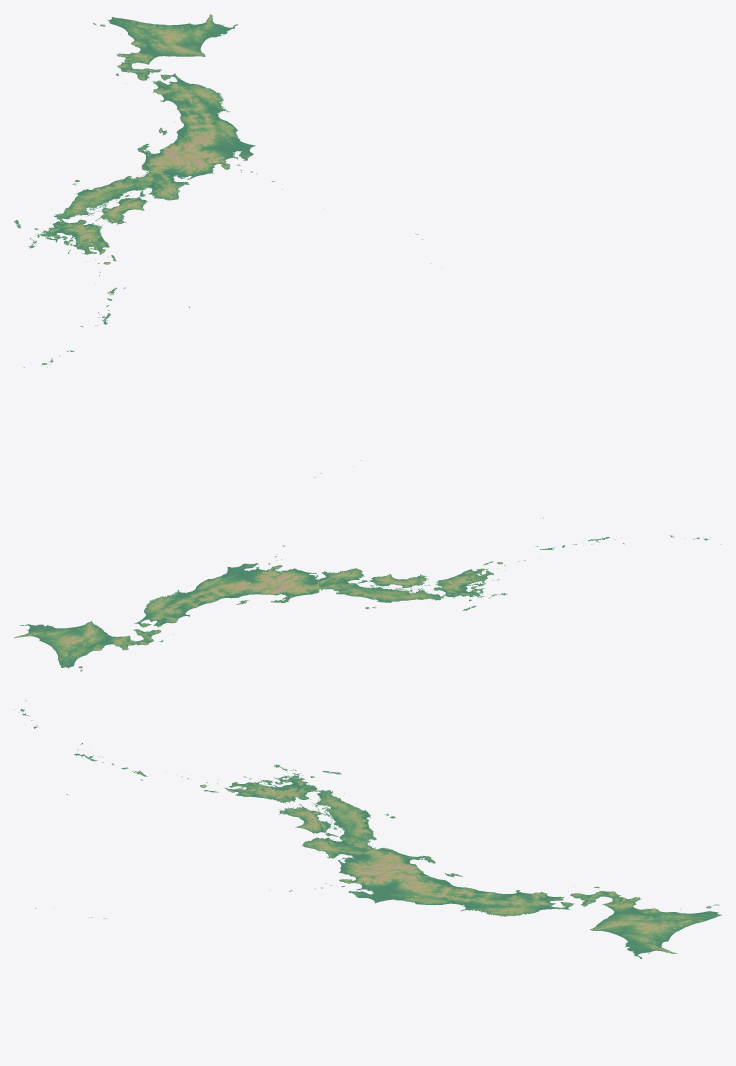
Rendered from japan-terrain.glb.
3 views of the same model, one above another, from view 1: azimuth 30°, elevation 25°; view 2: azimuth 150°, elevation 25°; view 3: azimuth 270°, elevation 25° (orthographic). The views are drawn at different scales.
Visible parts, largest first — view 1: JP-01, JP-03; view 2: JP-01, JP-03; view 3: JP-01, JP-03, JP-07, JP-20.
Part boxes in pixels (x1=…): JP-01: x1=93, y1=14, x2=237, y2=83; JP-03: x1=183, y1=84, x2=223, y2=107; JP-01: x1=14, y1=621, x2=173, y2=671; JP-03: x1=144, y1=595, x2=183, y2=613; JP-01: x1=570, y1=886, x2=721, y2=958; JP-03: x1=477, y1=900, x2=535, y2=916; JP-07: x1=411, y1=883, x2=450, y2=905; JP-20: x1=358, y1=863, x2=418, y2=878.
Bounding box in the file's own units: 346 × 0.3691 × 295.
